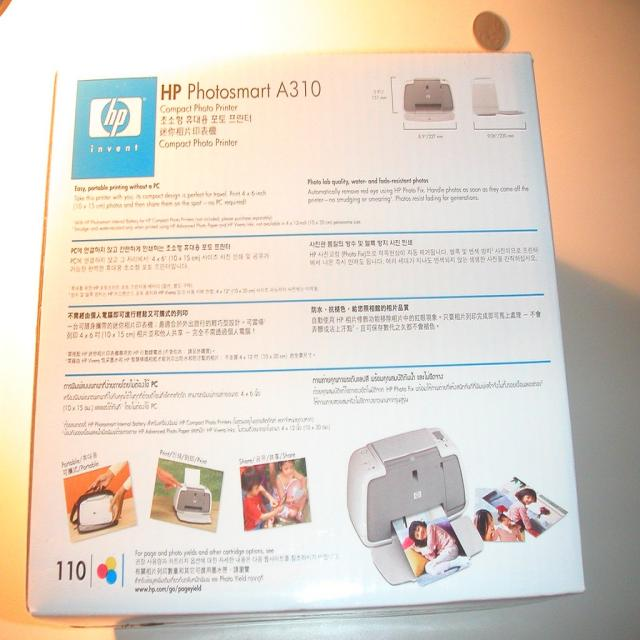HP: (89, 97, 145, 139)
